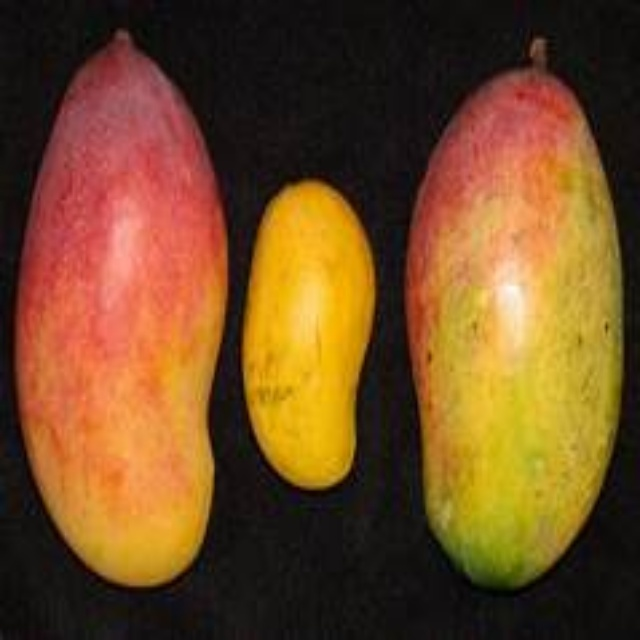mango: (409, 60, 624, 587), (25, 31, 223, 583), (245, 187, 371, 486)
